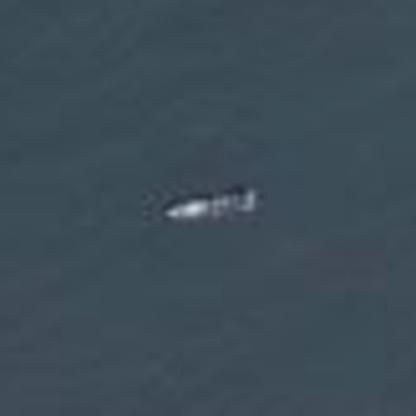ship: (154, 177, 266, 227)
